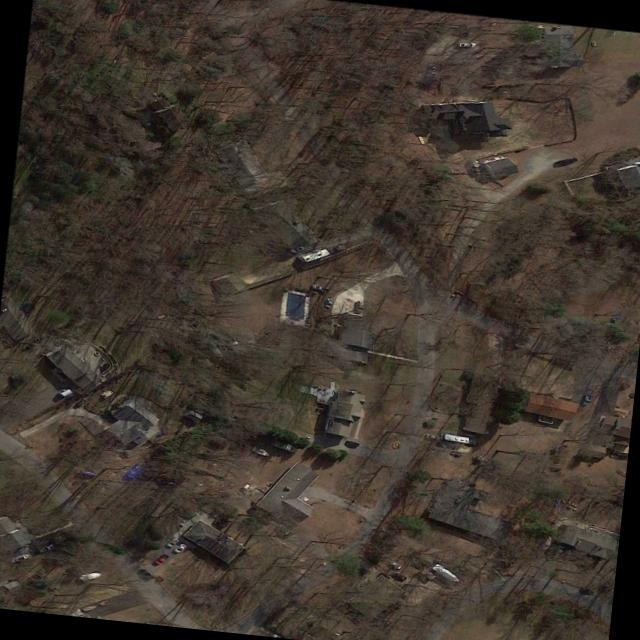ship: (432, 562, 460, 584), (271, 438, 298, 454), (251, 444, 270, 458), (10, 551, 29, 564), (80, 571, 103, 581)
small-vehicle: (303, 248, 330, 261), (361, 549, 379, 566), (556, 155, 578, 167), (420, 567, 436, 581), (138, 567, 154, 581), (152, 553, 168, 567), (74, 396, 88, 410), (173, 542, 188, 555), (390, 571, 407, 582), (38, 543, 56, 553), (343, 439, 359, 450), (333, 241, 348, 252), (389, 559, 403, 570), (289, 243, 304, 253), (166, 537, 179, 548), (581, 394, 592, 407), (355, 299, 364, 314), (421, 433, 440, 440), (325, 297, 334, 308), (579, 589, 593, 596), (310, 283, 322, 291), (459, 42, 475, 48)
